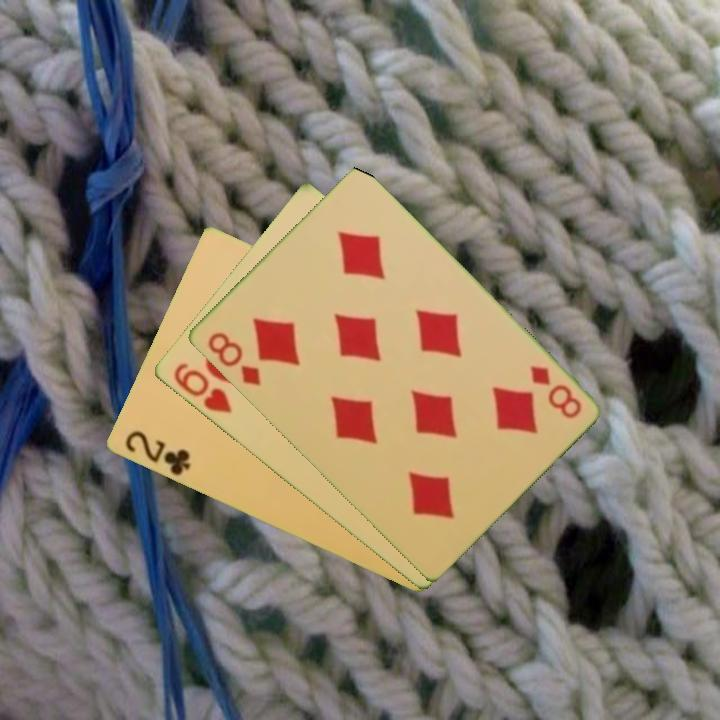2c: (121, 427, 193, 479)
6h: (169, 359, 235, 417)
8d: (203, 328, 264, 389), (525, 361, 584, 422)
